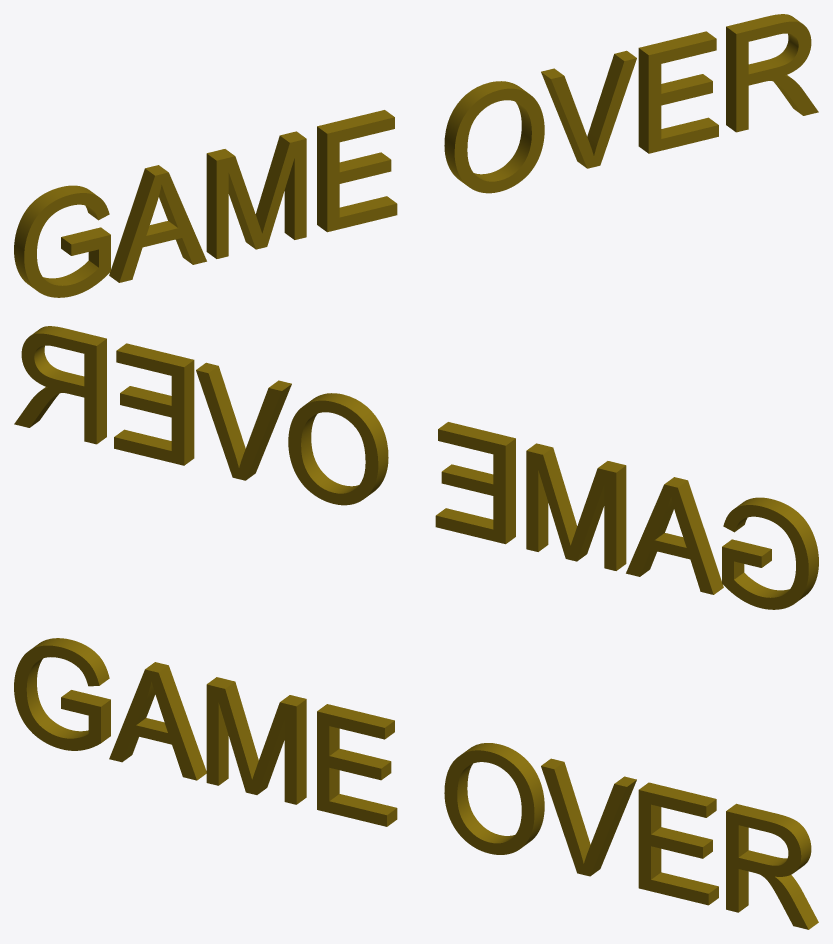
The model's file is gover.obj.
The picture shows the model from 3 angles, top to bottom: view 1: azimuth 30°, elevation 25°; view 2: azimuth 150°, elevation 25°; view 3: azimuth 330°, elevation 25°; orthographic projection.
Parts seen in each view (by area): view 1: TextPlus001; view 2: TextPlus001; view 3: TextPlus001.
Part boxes in pixels (x1,y1,x2,y2): TextPlus001: [14, 14, 818, 297]; TextPlus001: [14, 326, 818, 609]; TextPlus001: [14, 638, 818, 929].
Bounding box in the file's own units: 135 × 16.57 × 3.
